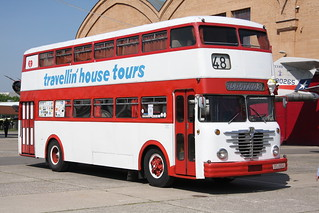bus: (18, 15, 288, 187)
